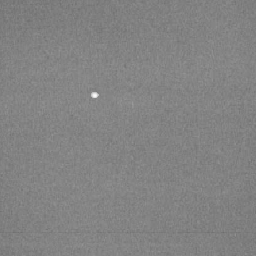Target: (89, 90, 100, 99)
